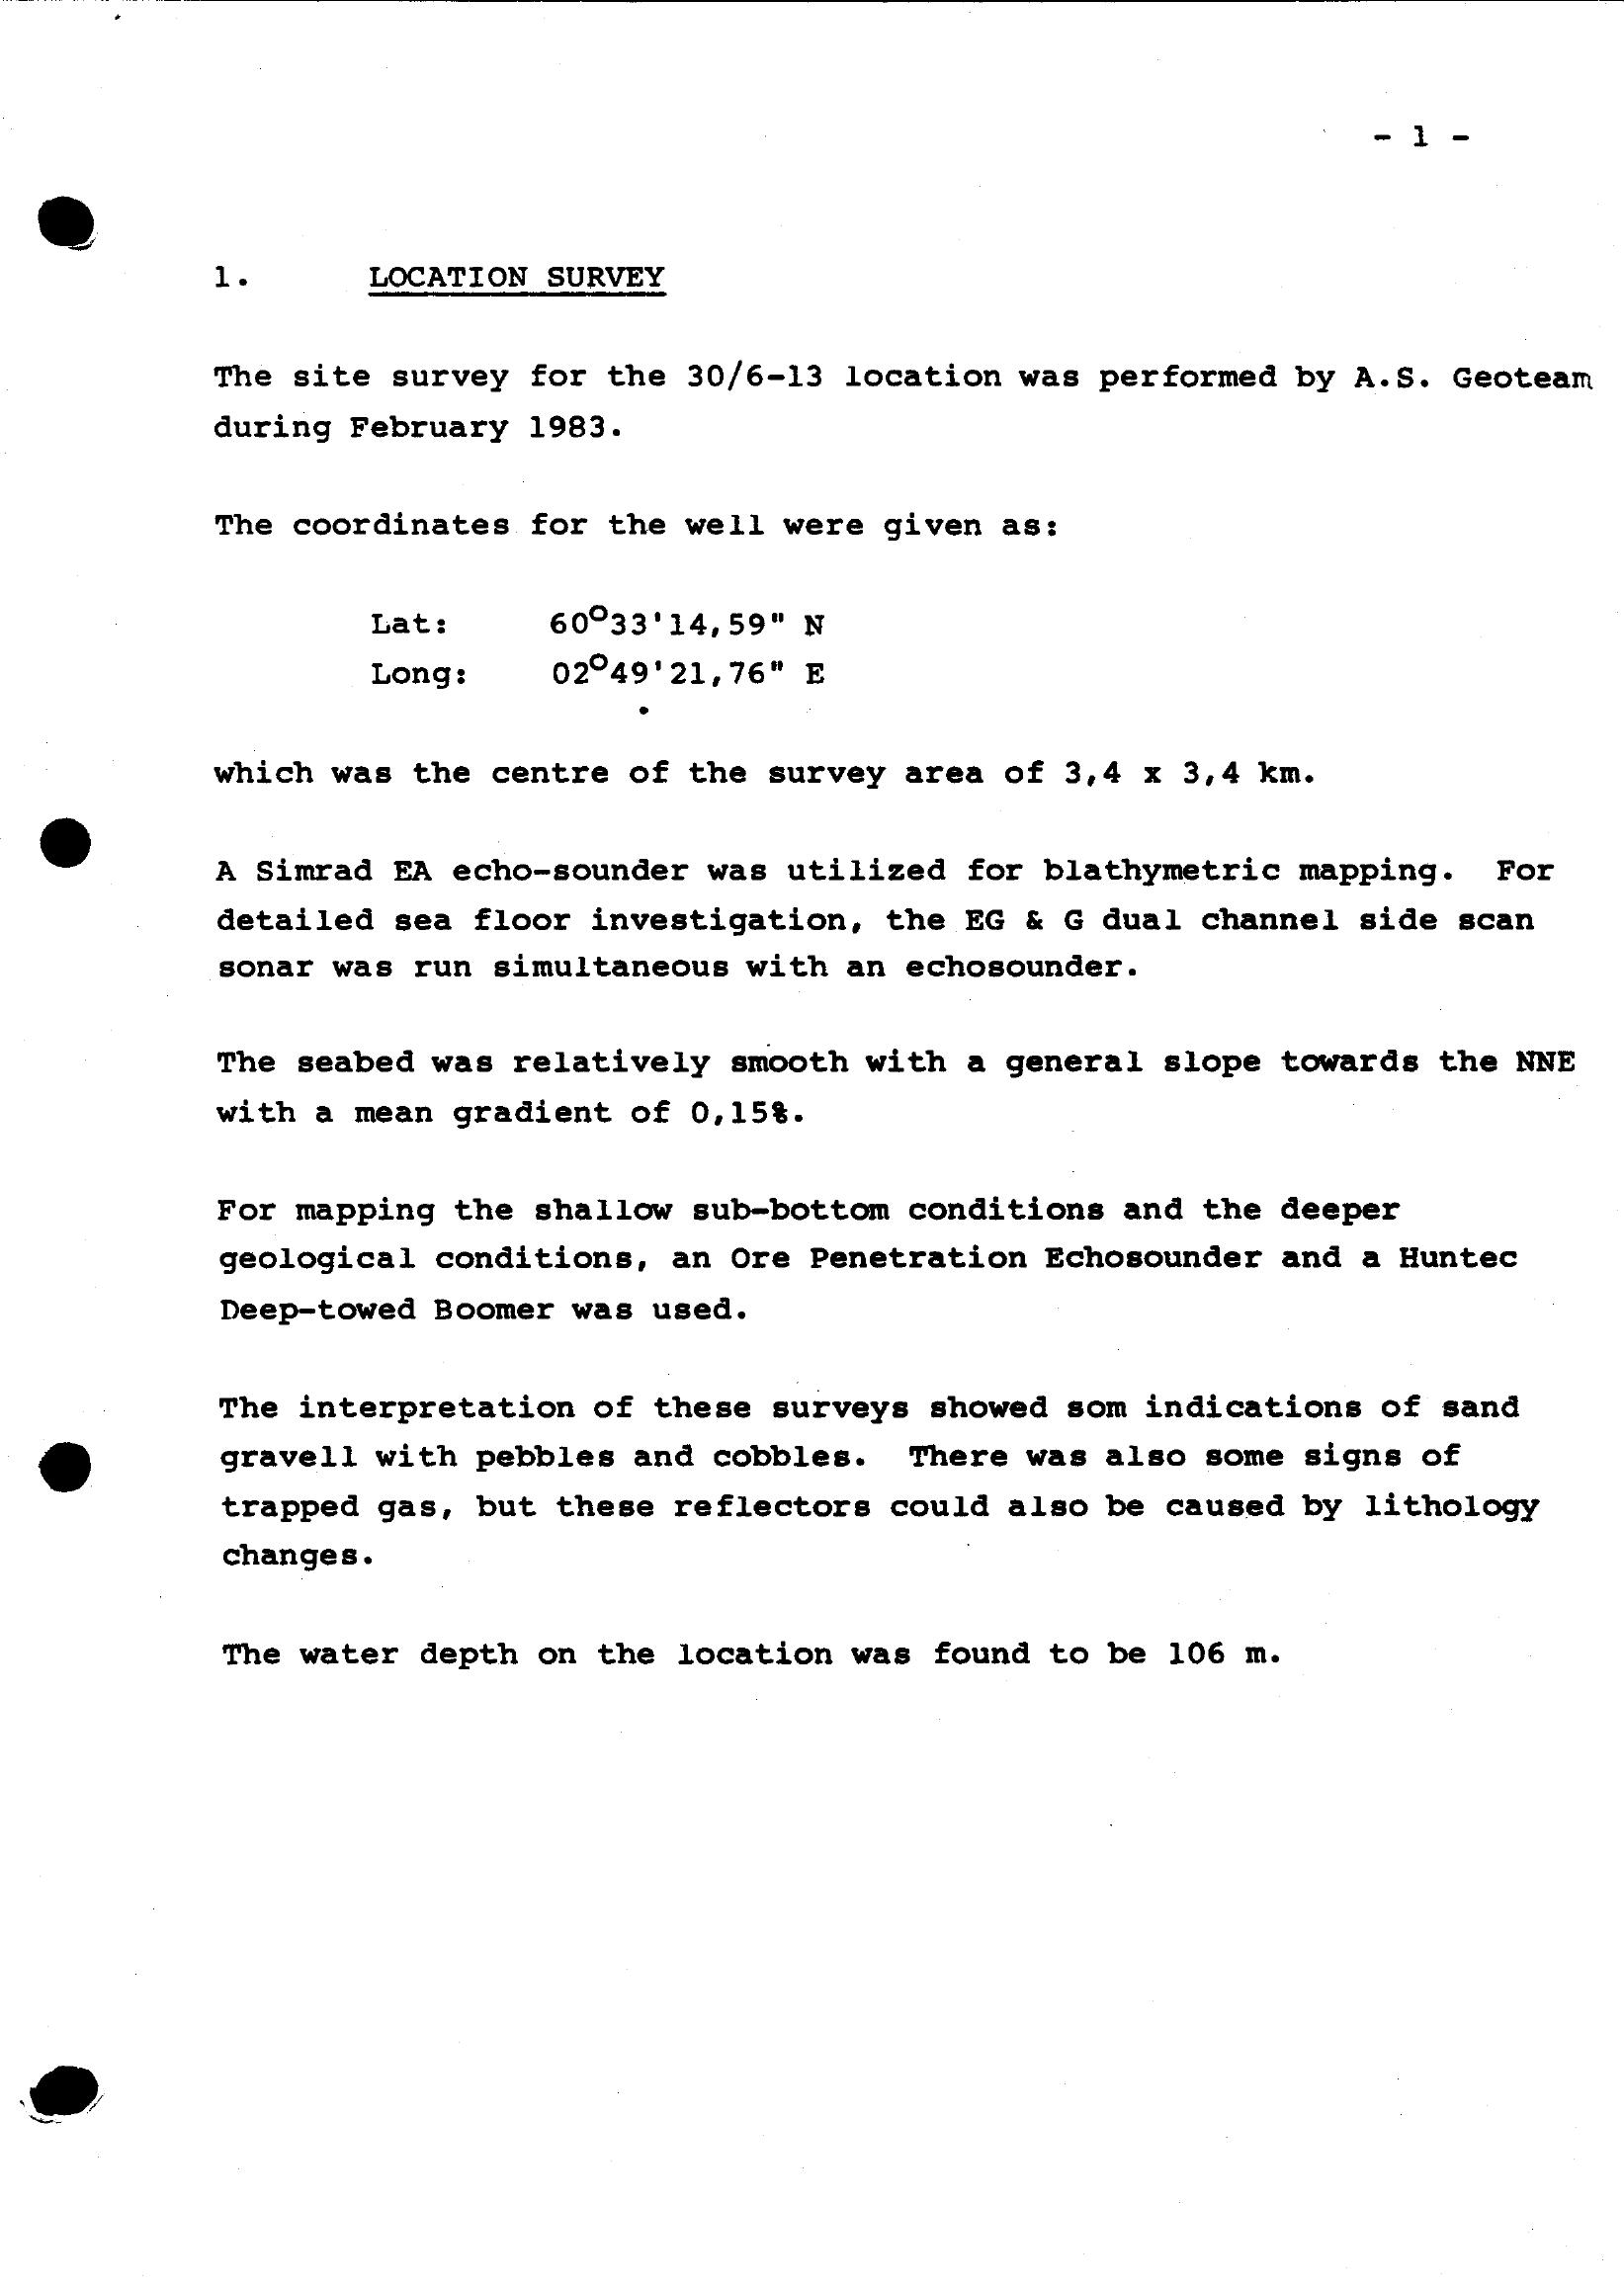text: (162, 227, 1617, 1722)
